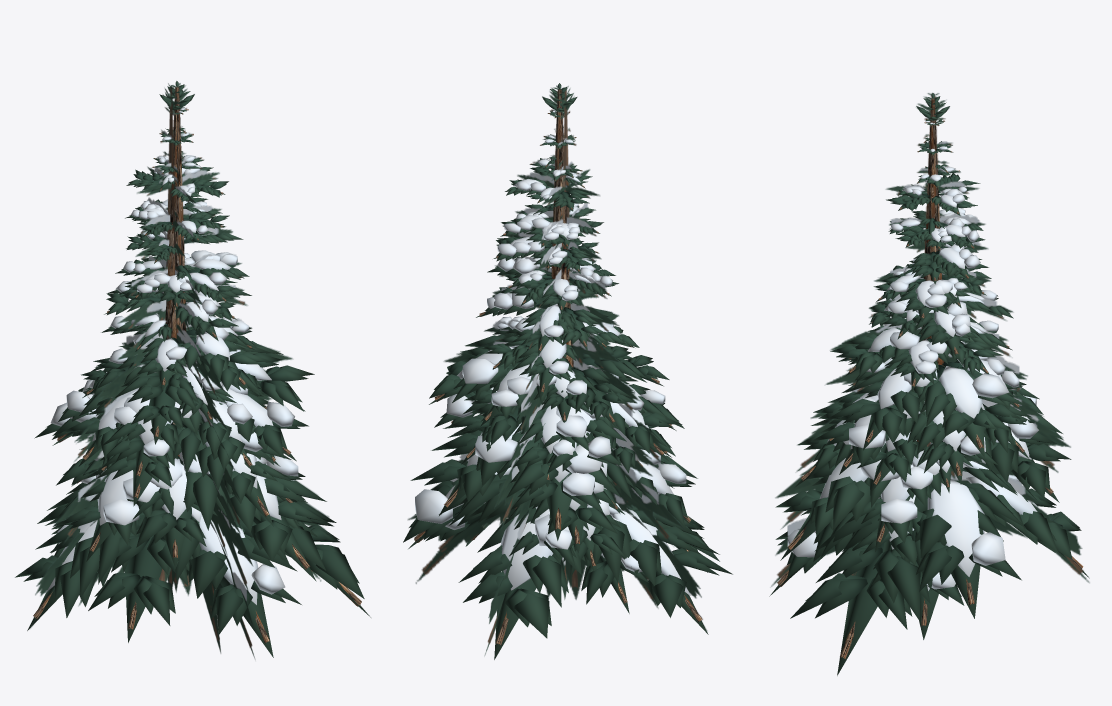
Rendered from tree15.glb.
The picture shows the model from 3 angles, left to right: view 1: azimuth 30°, elevation 25°; view 2: azimuth 150°, elevation 25°; view 3: azimuth 270°, elevation 25°; orthographic projection. The views are drawn at different scales.
Parts seen in each view (by area): view 1: Alpine15_1, Alpine15_2, Empty.004, Alpine15_0; view 2: Alpine15_1, Alpine15_2, Empty.004, Alpine15_0; view 3: Alpine15_1, Alpine15_2, Empty.004, Alpine15_0.
Boxes of the visible parts, box(x1,y1,x2,y2) form: Alpine15_1: box(15, 81, 370, 657); Alpine15_2: box(45, 108, 298, 604); Empty.004: box(29, 83, 329, 659); Alpine15_0: box(33, 87, 361, 643); Alpine15_1: box(403, 83, 732, 659); Alpine15_2: box(415, 109, 690, 595); Empty.004: box(407, 85, 707, 656); Alpine15_0: box(414, 89, 702, 645); Alpine15_1: box(769, 93, 1089, 675); Alpine15_2: box(787, 121, 1038, 590); Empty.004: box(770, 93, 1089, 587); Alpine15_0: box(777, 98, 1083, 659).
Size of the model in its own units: 13.2 by 21.98 by 12.61.
4 materials, 2 textured.
